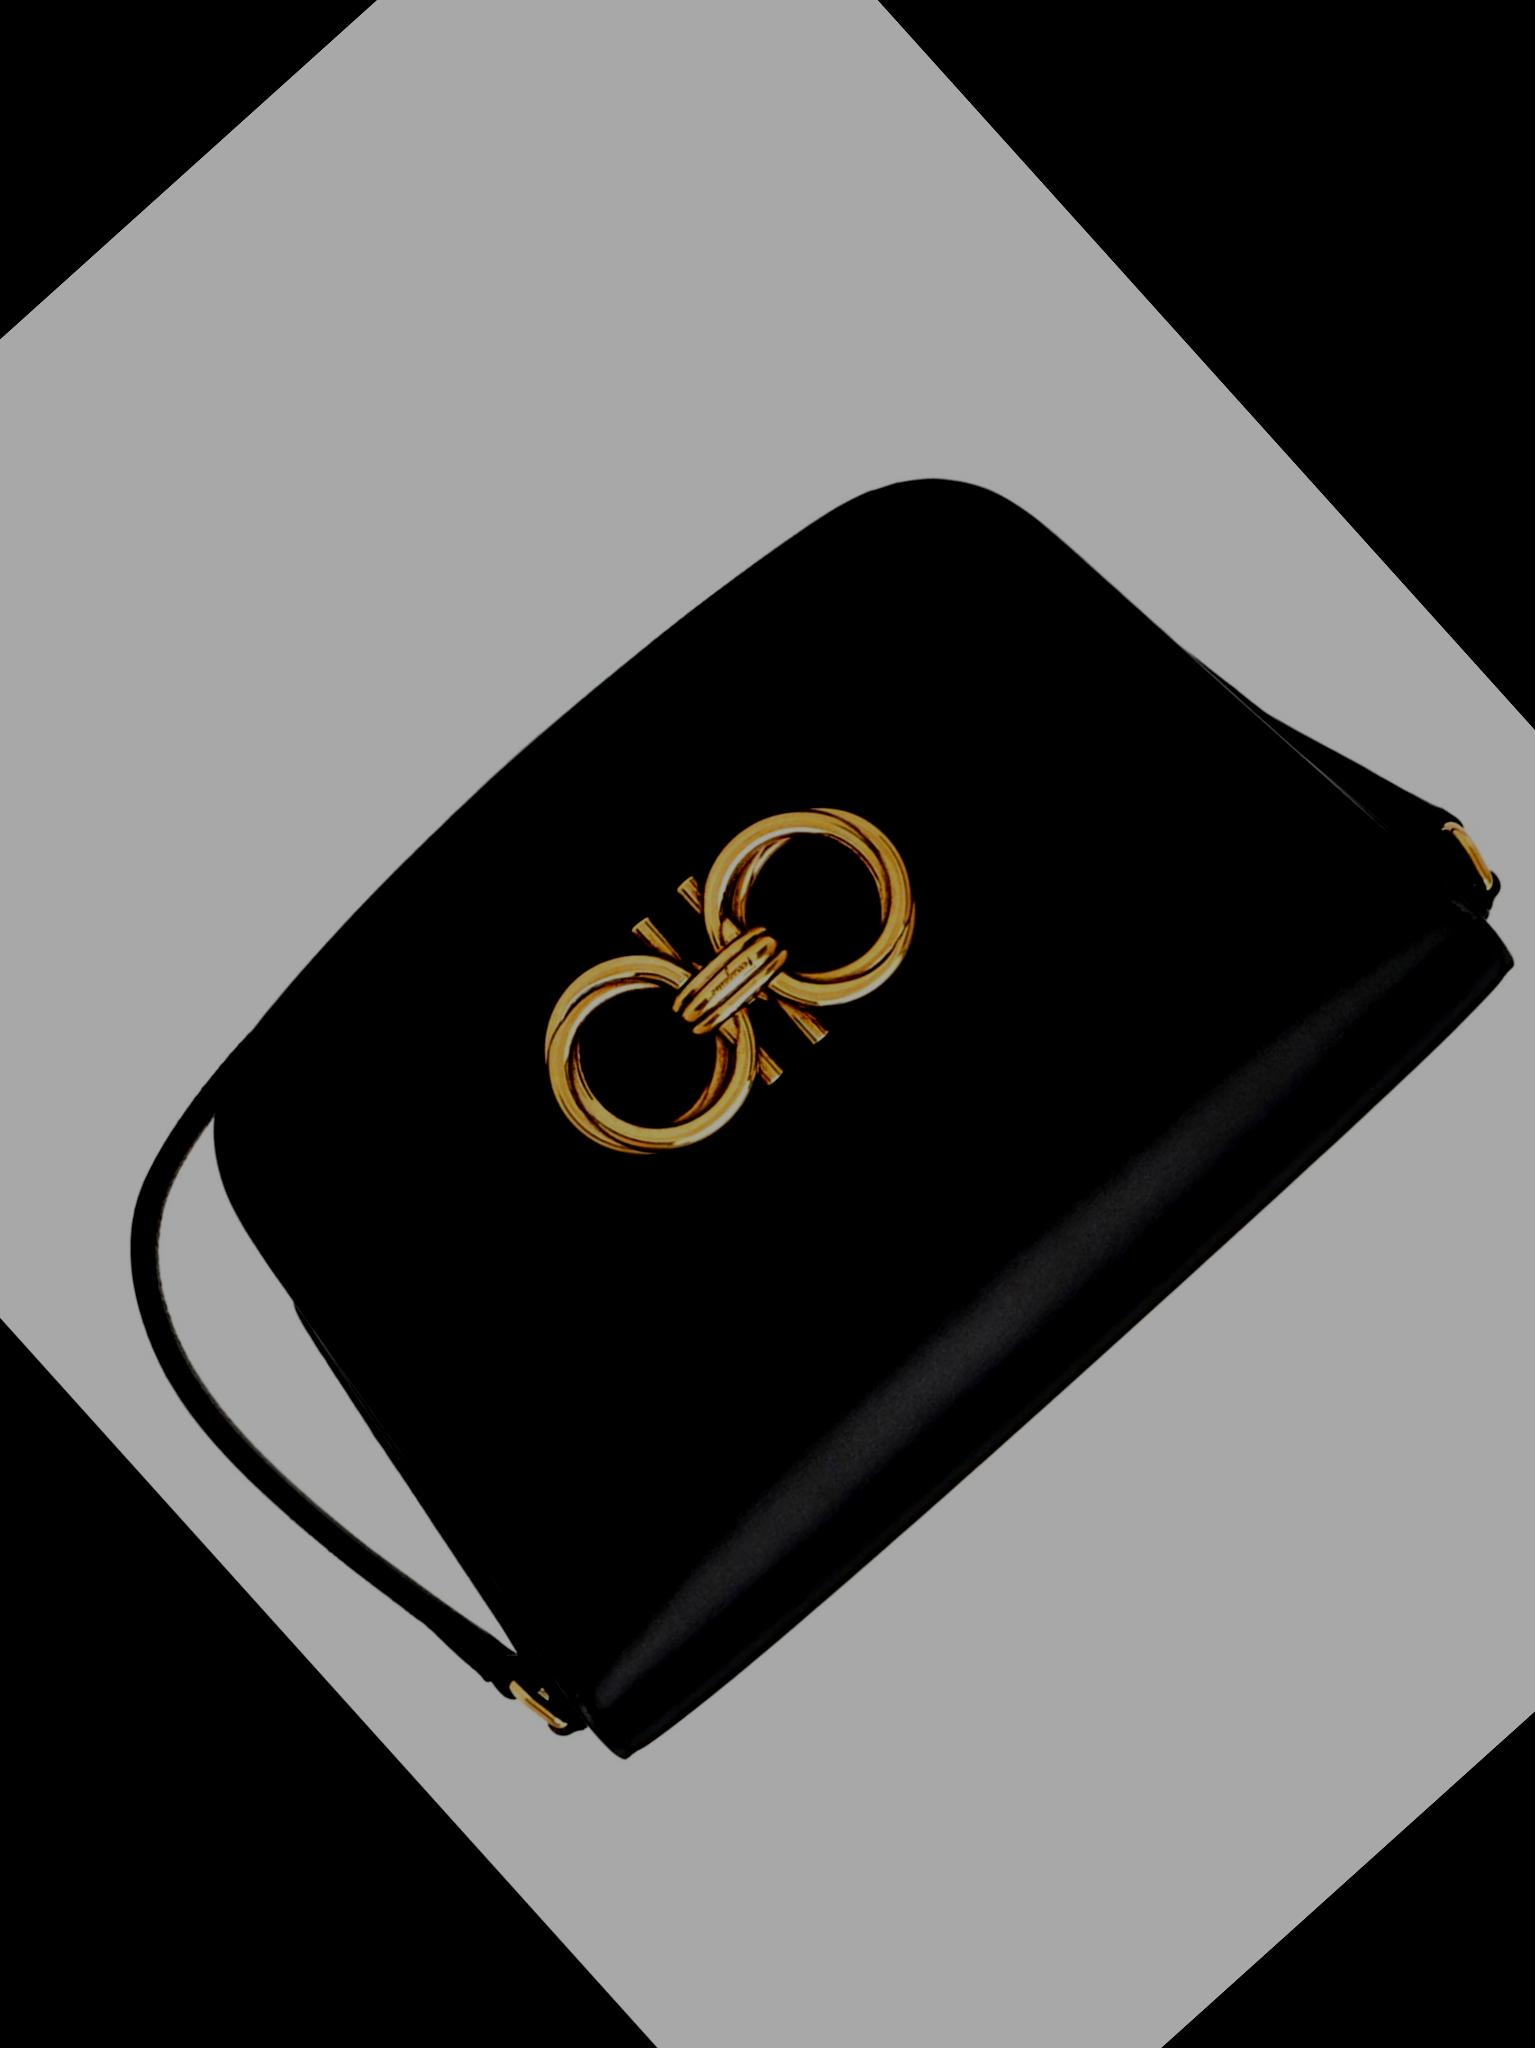FERRAGAMO: (440, 708, 1021, 1277)
